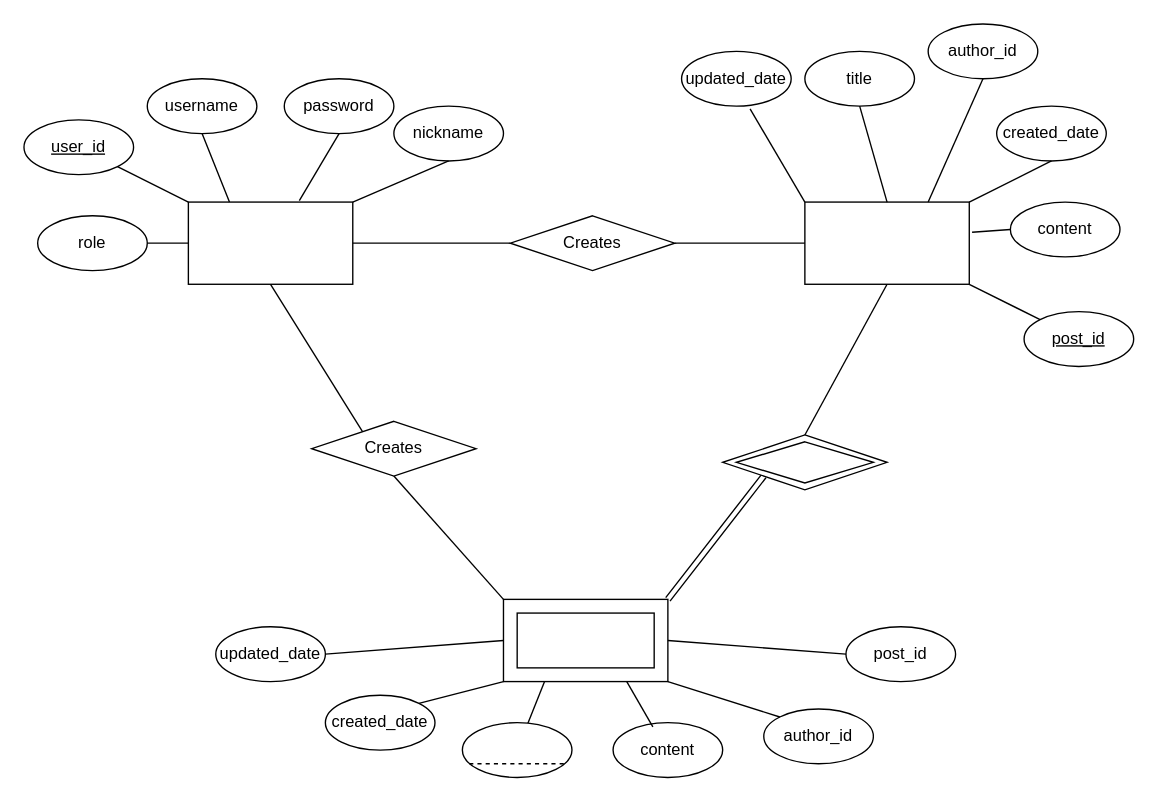
Image size: 1158x801. Some labels were removed from this diagram. Here are the shapes that lost their labels. From the top down, the centre of each, then its label:
At (x=270, y=242): "User".
At (x=886, y=242): "Post".
At (x=804, y=461): "belongs_to".
At (x=585, y=640): "Comment".
At (x=516, y=749): "comment_id".
